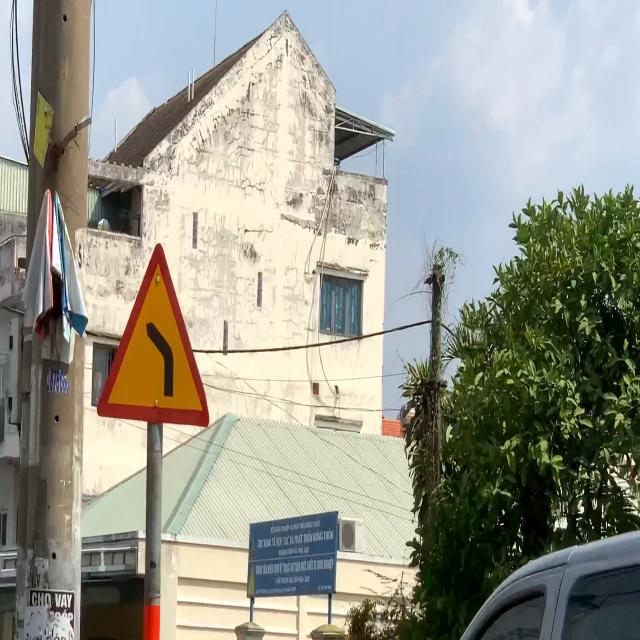W.201a: (86, 216, 219, 438)
